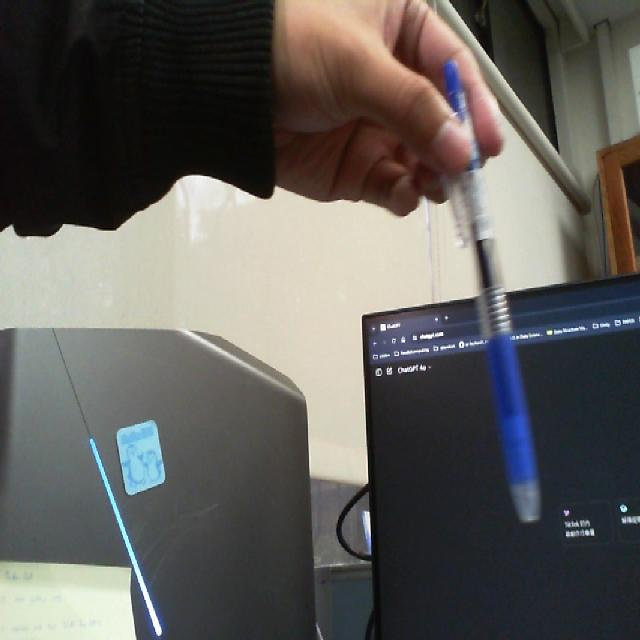Pen: (429, 46, 547, 536)
